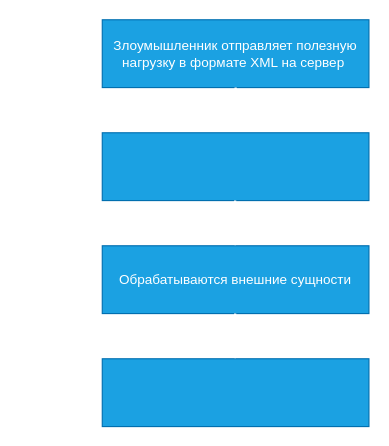
Image size: 389x446. Some labels were removed from this diagram. The shapes that lost their labels are listed below. From the top down, each one's centre as x and y in pixels, then its label:
At pixel 235 166: "Полезная нагрузка XML парситься парсером XML".
At pixel 235 392: "Локальный файл с сервера вместе с результатом запроса отправляются обратно".
